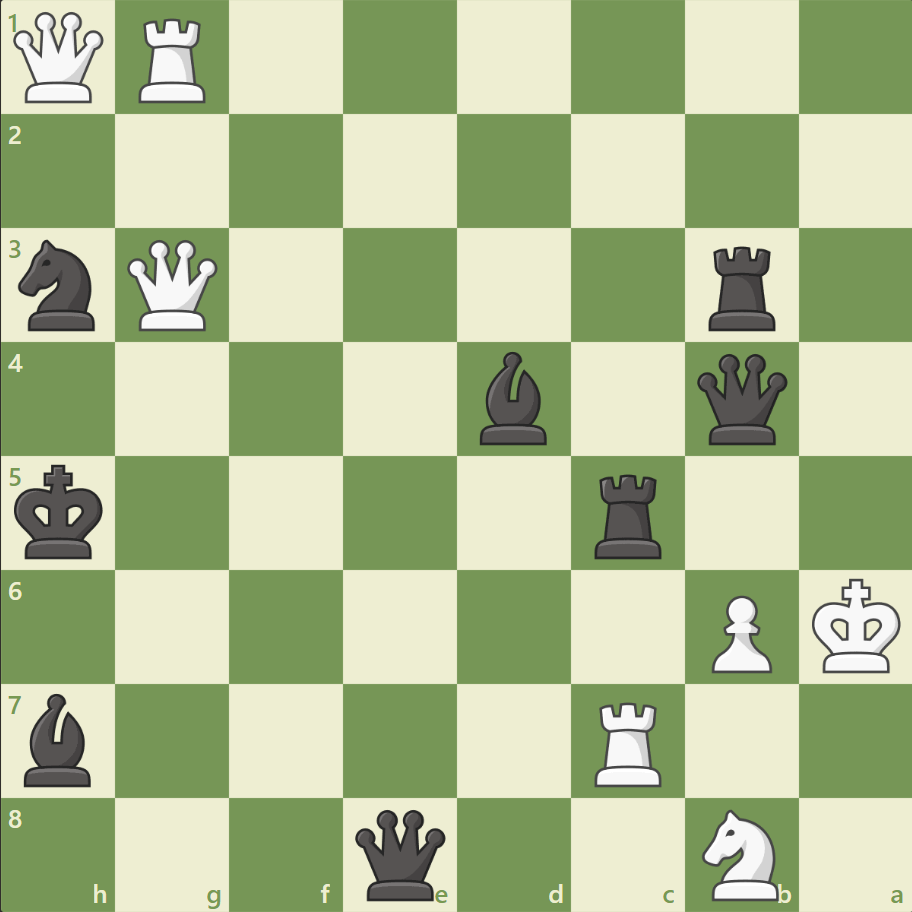K: (806, 571, 906, 679)
N: (692, 802, 789, 904)
P: (701, 586, 776, 677)
Q: (124, 236, 223, 335), (10, 9, 109, 108)
R: (587, 693, 670, 790), (133, 12, 215, 109)
b: (17, 687, 101, 790), (471, 347, 555, 449)
k: (11, 458, 111, 566)
n: (11, 234, 108, 337)
q: (691, 349, 790, 449), (351, 804, 450, 903)
r: (587, 466, 670, 563), (700, 239, 783, 336)
